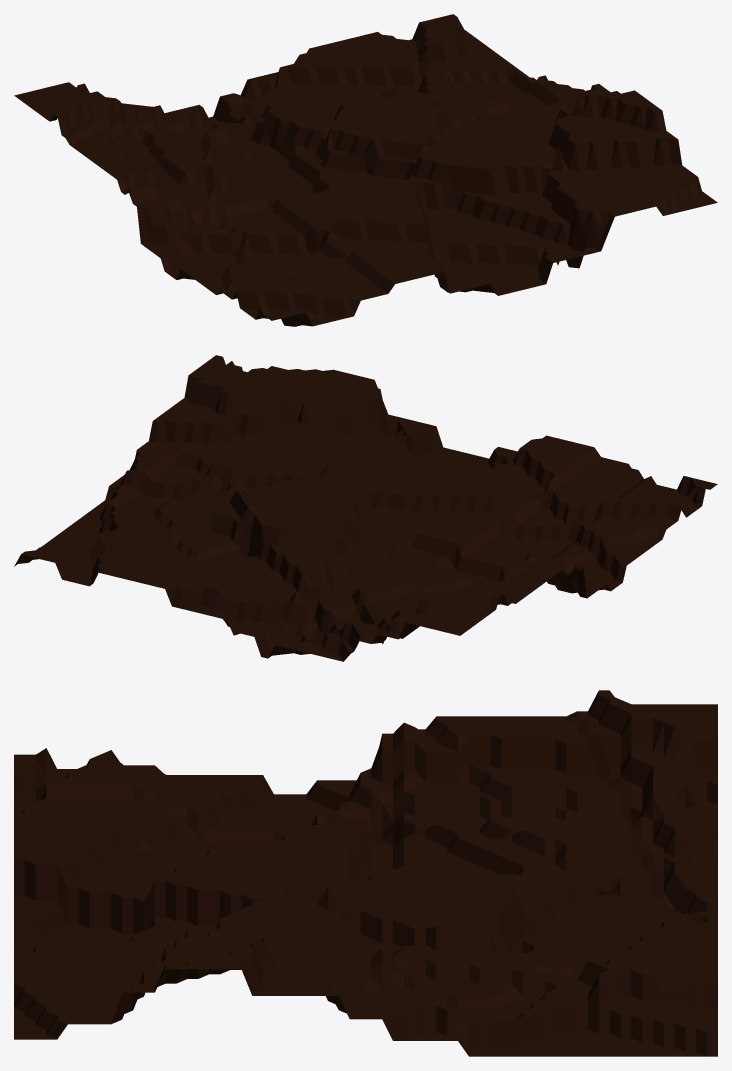
The model's file is World.obj.
3 renders of one model, top to bottom at view 1: azimuth 30°, elevation 25°; view 2: azimuth 150°, elevation 25°; view 3: azimuth 270°, elevation 25°, orthographic. The views are drawn at different scales.
Parts seen in each view (by area): view 1: 平面; view 2: 平面; view 3: 平面.
Part boxes in pixels (x1,y1,x2,y2): 平面: (14,14,717,326); 平面: (14,355,717,661); 平面: (14,690,717,1056).
Bounding box in the file's own units: 2000 × 417 × 2000.
